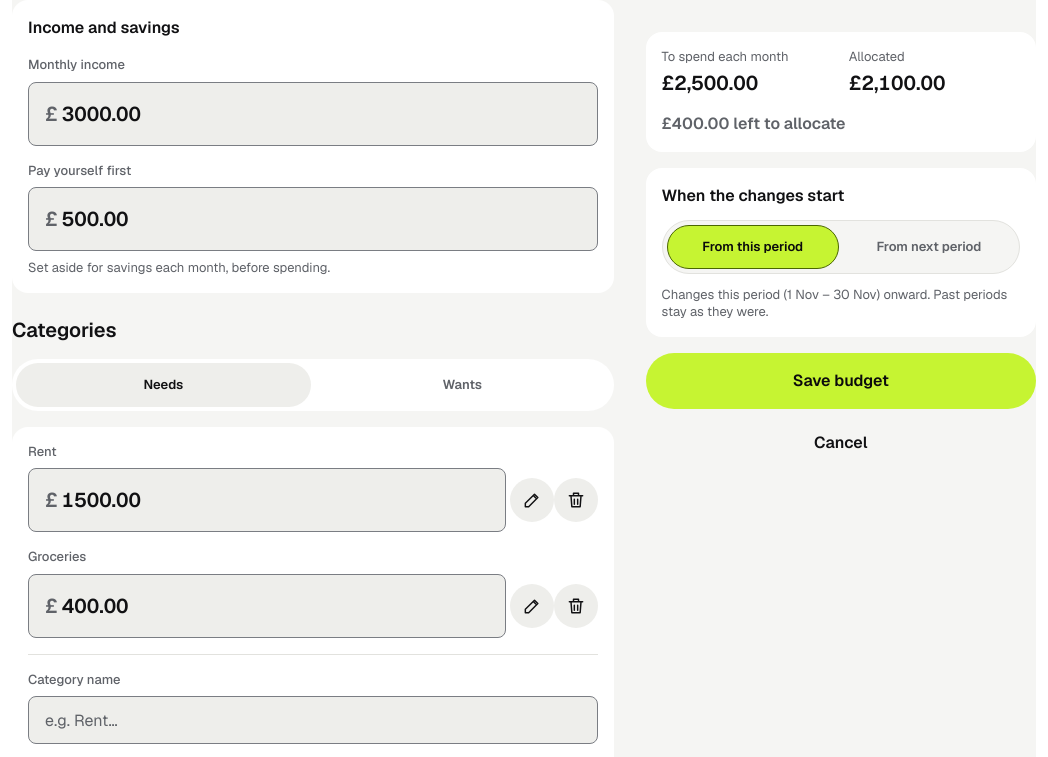
Test: BudgetEditor › raising income moves the figure back under
Replace the text in the field labelled "Rent" with "2000" at (275, 500), box left=62, top=487, right=489, bottom=513
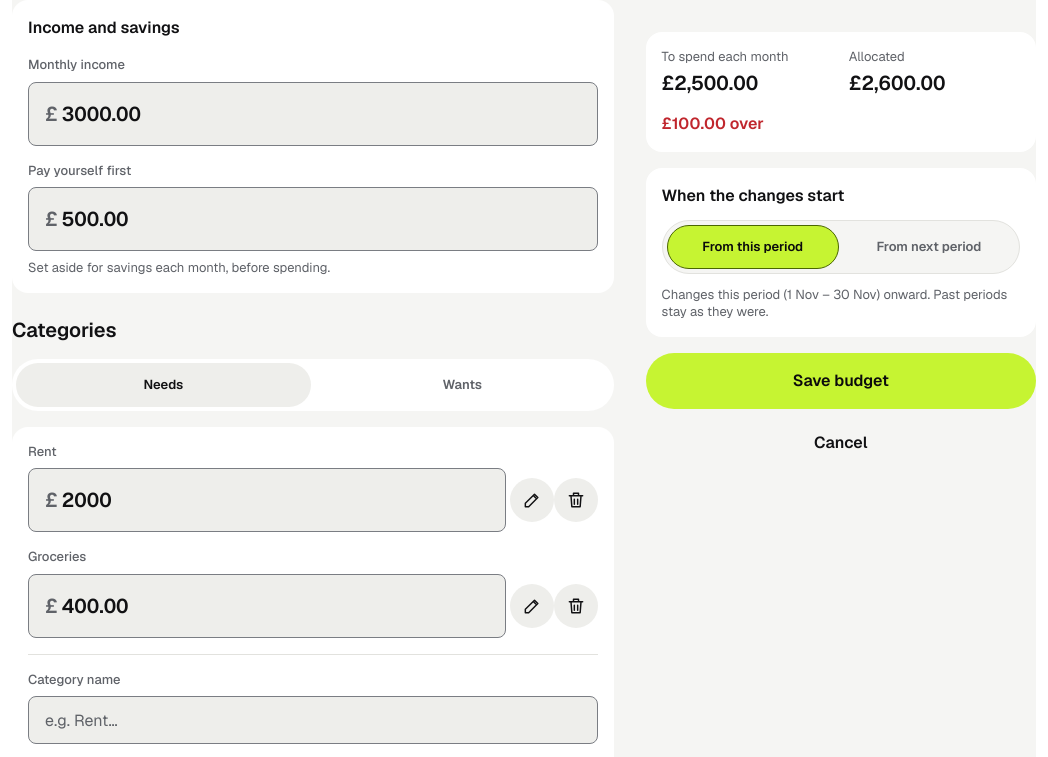
Replace the text in the field labelled "Monthly income" with "3200" at (321, 114), box left=62, top=100, right=581, bottom=126
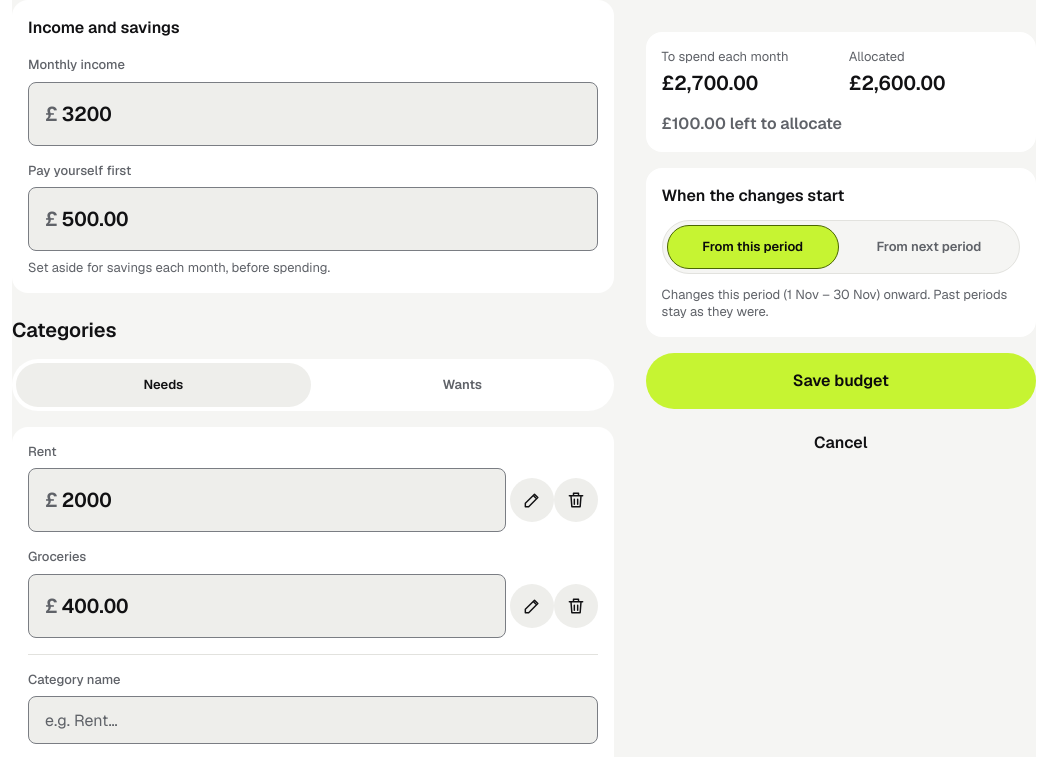
Result: the text "£100.00 left to allocate" is shown at left=662, top=112, right=842, bottom=134
